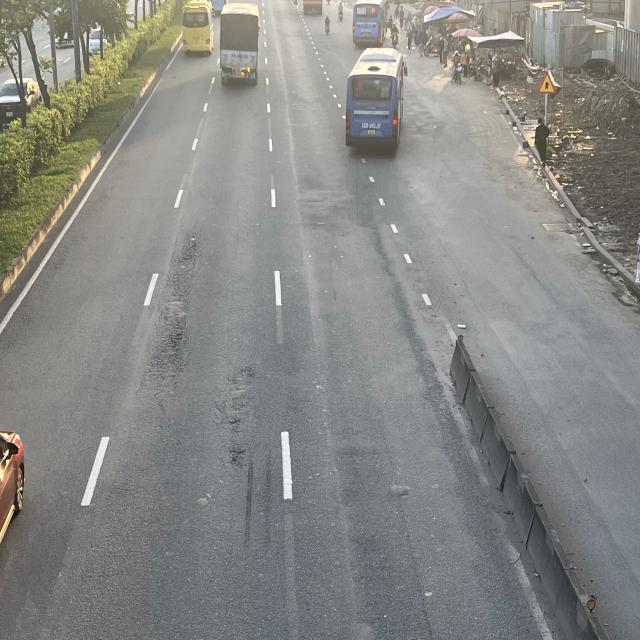coach: (344, 47, 406, 150), (181, 2, 214, 58), (351, 0, 386, 44)
truck: (217, 0, 258, 84)
